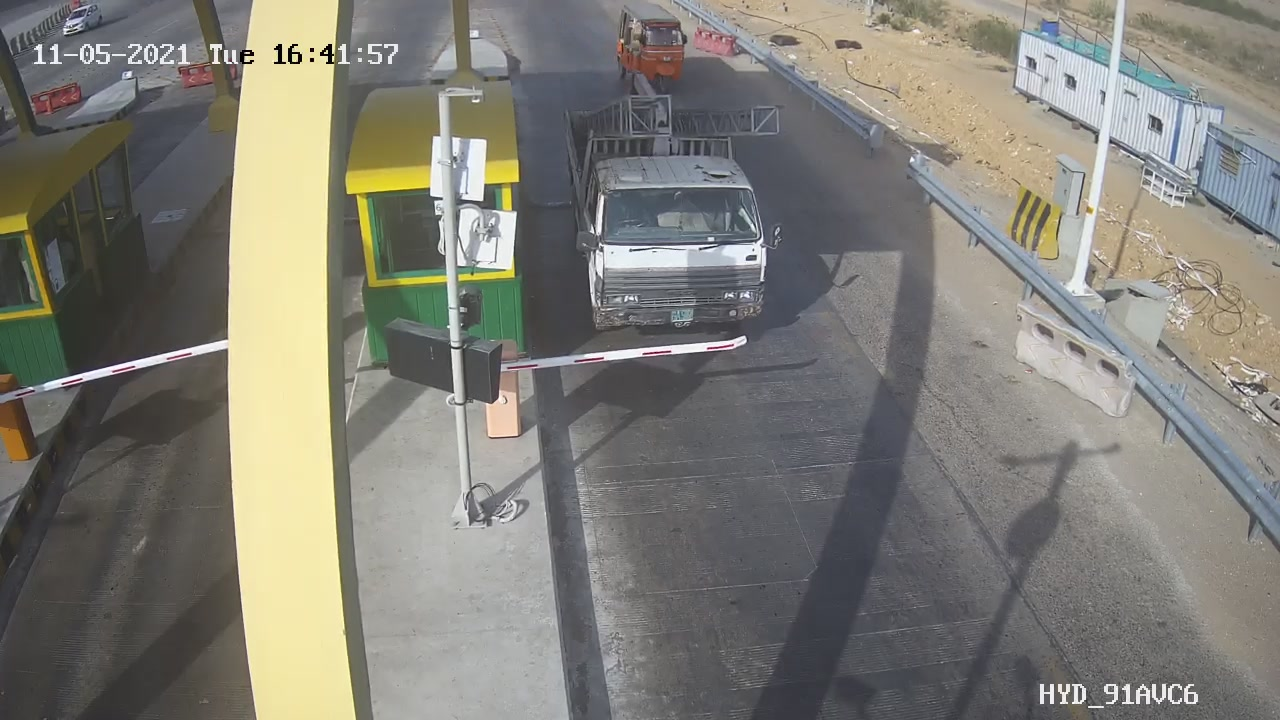F3: (543, 65, 808, 347)
